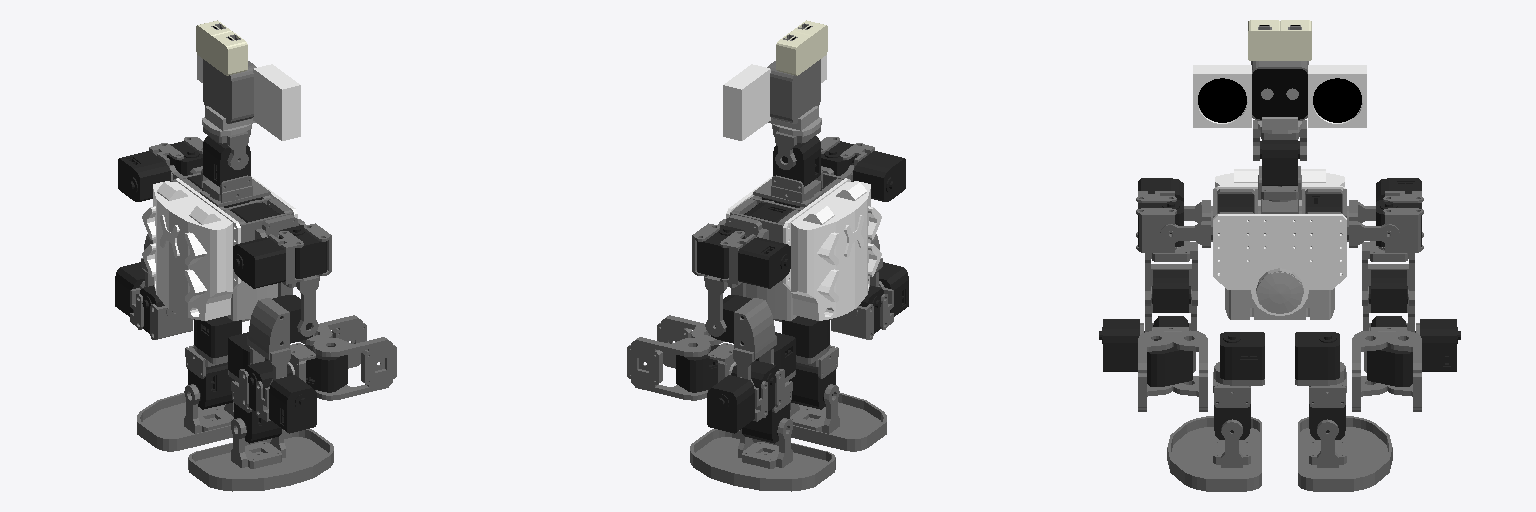
URDF robot description (kxrl2l2a6h2m):
<?xml version="1.0"?>
<robot name="kxrl2l2a6h2m"
       xmlns:xi="http://www.w3.org/2001/XInclude">
  <link name="bodyset94472077639384">
    <visual>
      <origin xyz="0 0 0.1205" rpy="0 -0 0"/>
      <geometry>
        <mesh filename="package://kxr_models/meshes/kxrl2l2a6h2m/bodyset94472077639384_mesh.dae" scale="1 1 1" />
      </geometry>
    </visual>
    <collision>
      <origin xyz="0 0 0.1205" rpy="0 -0 0"/>
      <geometry>
        <mesh filename="package://kxr_models/meshes/kxrl2l2a6h2m/bodyset94472077639384_mesh.dae" scale="1 1 1" />
      </geometry>
    </collision>
    <inertial>
      <mass value="0.437124" />
      <origin xyz="-0.005319 2.13443e-10 0.029207" rpy="0 -0 0"/>
      <inertia ixx="0.001306" ixy="-8.28224e-06" ixz="-1.69917e-06" iyy="0.001381" iyz="1.4569e-06" izz="0.002216"/>
    </inertial>
  </link>
  <link name="HEAD_LINK0">
    <visual>
      <origin xyz="-0.00725 0 0.084" rpy="0 -0 0"/>
      <geometry>
        <mesh filename="package://kxr_models/meshes/kxrl2l2a6h2m/HEAD_LINK0_mesh.dae" scale="1 1 1" />
      </geometry>
    </visual>
    <collision>
      <origin xyz="-0.00725 0 0.084" rpy="0 -0 0"/>
      <geometry>
        <mesh filename="package://kxr_models/meshes/kxrl2l2a6h2m/HEAD_LINK0_mesh.dae" scale="1 1 1" />
      </geometry>
    </collision>
    <inertial>
      <mass value="0.037398" />
      <origin xyz="0 1.22056e-18 0.023093" rpy="0 -0 0"/>
      <inertia ixx="6.28707e-05" ixy="3.12188e-21" ixz="8.61164e-09" iyy="6.69539e-05" iyz="-5.25778e-09" izz="2.5436e-05"/>
    </inertial>
  </link>
  <link name="HEAD_LINK1">
    <visual>
      <origin xyz="0 0 0.036" rpy="0 -0 0"/>
      <geometry>
        <mesh filename="package://kxr_models/meshes/kxrl2l2a6h2m/HEAD_LINK1_mesh.dae" scale="1 1 1" />
      </geometry>
    </visual>
    <collision>
      <origin xyz="0 0 0.036" rpy="0 -0 0"/>
      <geometry>
        <mesh filename="package://kxr_models/meshes/kxrl2l2a6h2m/HEAD_LINK1_mesh.dae" scale="1 1 1" />
      </geometry>
    </collision>
    <inertial>
      <mass value="0.160516" />
      <origin xyz="0.001469 -6.19726e-19 0.171559" rpy="0 -0 0"/>
      <inertia ixx="0.00092" ixy="-1.79922e-07" ixz="-6.65543e-08" iyy="0.000849" iyz="-1.79583e-08" izz="0.000187"/>
    </inertial>
  </link>
  <link name="LARM_LINK0">
    <visual>
      <origin xyz="0.00725 0.0465 0.069" rpy="0 -0 0"/>
      <geometry>
        <mesh filename="package://kxr_models/meshes/kxrl2l2a6h2m/LARM_LINK0_mesh.dae" scale="1 1 1" />
      </geometry>
    </visual>
    <collision>
      <origin xyz="0.00725 0.0465 0.069" rpy="0 -0 0"/>
      <geometry>
        <mesh filename="package://kxr_models/meshes/kxrl2l2a6h2m/LARM_LINK0_mesh.dae" scale="1 1 1" />
      </geometry>
    </collision>
    <inertial>
      <mass value="0.011619" />
      <origin xyz="1.73472e-18 0 0.012925" rpy="0 -0 0"/>
      <inertia ixx="3.94725e-05" ixy="-2.05366e-09" ixz="1.93423e-09" iyy="2.58467e-05" iyz="2.68346e-09" izz="1.89272e-05"/>
    </inertial>
  </link>
  <link name="LARM_LINK1">
    <visual>
      <origin xyz="0 0.031 0" rpy="0 -0 0"/>
      <geometry>
        <mesh filename="package://kxr_models/meshes/kxrl2l2a6h2m/LARM_LINK1_mesh.dae" scale="1 1 1" />
      </geometry>
    </visual>
    <collision>
      <origin xyz="0 0.031 0" rpy="0 -0 0"/>
      <geometry>
        <mesh filename="package://kxr_models/meshes/kxrl2l2a6h2m/LARM_LINK1_mesh.dae" scale="1 1 1" />
      </geometry>
    </collision>
    <inertial>
      <mass value="0.078374" />
      <origin xyz="-0.013148 0.008556 1.38778e-17" rpy="0 -0 0"/>
      <inertia ixx="8.84213e-05" ixy="-6.06237e-08" ixz="1.1156e-07" iyy="6.51421e-05" iyz="1.21718e-07" izz="8.07487e-05"/>
    </inertial>
  </link>
  <link name="LARM_LINK2">
    <visual>
      <origin xyz="0 0 -0.015" rpy="0 -0 0"/>
      <geometry>
        <mesh filename="package://kxr_models/meshes/kxrl2l2a6h2m/LARM_LINK2_mesh.dae" scale="1 1 1" />
      </geometry>
    </visual>
    <collision>
      <origin xyz="0 0 -0.015" rpy="0 -0 0"/>
      <geometry>
        <mesh filename="package://kxr_models/meshes/kxrl2l2a6h2m/LARM_LINK2_mesh.dae" scale="1 1 1" />
      </geometry>
    </collision>
    <inertial>
      <mass value="0.012939" />
      <origin xyz="0 0 0.016427" rpy="0 -0 0"/>
      <inertia ixx="4.20135e-05" ixy="-3.18804e-09" ixz="3.84132e-09" iyy="1.71658e-05" iyz="-4.7056e-09" izz="2.91052e-05"/>
    </inertial>
  </link>
  <link name="LARM_LINK3">
    <visual>
      <origin xyz="0 0 -0.041" rpy="0 -0 0"/>
      <geometry>
        <mesh filename="package://kxr_models/meshes/kxrl2l2a6h2m/LARM_LINK3_mesh.dae" scale="1 1 1" />
      </geometry>
    </visual>
    <collision>
      <origin xyz="0 0 -0.041" rpy="0 -0 0"/>
      <geometry>
        <mesh filename="package://kxr_models/meshes/kxrl2l2a6h2m/LARM_LINK3_mesh.dae" scale="1 1 1" />
      </geometry>
    </collision>
    <inertial>
      <mass value="0.05298" />
      <origin xyz="0.014792 0 -0.005477" rpy="0 -0 0"/>
      <inertia ixx="6.26397e-05" ixy="5.66051e-08" ixz="1.81381e-08" iyy="2.76781e-05" iyz="-6.74218e-07" izz="6.53223e-05"/>
    </inertial>
  </link>
  <link name="LARM_LINK4">
    <visual>
      <origin xyz="-0.0235 0 -0.043" rpy="0 -0 0"/>
      <geometry>
        <mesh filename="package://kxr_models/meshes/kxrl2l2a6h2m/LARM_LINK4_mesh.dae" scale="1 1 1" />
      </geometry>
    </visual>
    <collision>
      <origin xyz="-0.0235 0 -0.043" rpy="0 -0 0"/>
      <geometry>
        <mesh filename="package://kxr_models/meshes/kxrl2l2a6h2m/LARM_LINK4_mesh.dae" scale="1 1 1" />
      </geometry>
    </collision>
    <inertial>
      <mass value="0.078374" />
      <origin xyz="0 0.013148 -0.008556" rpy="0 -0 0"/>
      <inertia ixx="7.68304e-05" ixy="-6.06237e-08" ixz="1.1156e-07" iyy="5.20635e-05" iyz="1.21718e-07" izz="8.18295e-05"/>
    </inertial>
  </link>
  <link name="LARM_LINK5">
    <visual>
      <origin xyz="0.015 0 0" rpy="0 -0 0"/>
      <geometry>
        <mesh filename="package://kxr_models/meshes/kxrl2l2a6h2m/LARM_LINK5_mesh.dae" scale="1 1 1" />
      </geometry>
    </visual>
    <collision>
      <origin xyz="0.015 0 0" rpy="0 -0 0"/>
      <geometry>
        <mesh filename="package://kxr_models/meshes/kxrl2l2a6h2m/LARM_LINK5_mesh.dae" scale="1 1 1" />
      </geometry>
    </collision>
    <inertial>
      <mass value="0.042589" />
      <origin xyz="0.019552 0.079931 -0.03" rpy="0 -0 0"/>
      <inertia ixx="6.06965e-05" ixy="-5.22786e-23" ixz="8.61164e-09" iyy="2.91624e-05" iyz="-5.25778e-09" izz="6.59873e-05"/>
    </inertial>
  </link>
  <link name="LARM_LINK6">
    <visual>
      <origin xyz="0.0315 0.0105 0" rpy="0 -0 0"/>
      <geometry>
        <mesh filename="package://kxr_models/meshes/kxrl2l2a6h2m/LARM_LINK6_mesh.dae" scale="1 1 1" />
      </geometry>
    </visual>
    <collision>
      <origin xyz="0.0315 0.0105 0" rpy="0 -0 0"/>
      <geometry>
        <mesh filename="package://kxr_models/meshes/kxrl2l2a6h2m/LARM_LINK6_mesh.dae" scale="1 1 1" />
      </geometry>
    </collision>
    <inertial>
      <mass value="0.013267" />
      <origin xyz="0.048523 0.016764 3.46945e-18" rpy="0 -0 0"/>
      <inertia ixx="5.60417e-05" ixy="-2.54028e-09" ixz="-2.35822e-09" iyy="2.2066e-05" iyz="-1.52851e-07" izz="6.47415e-05"/>
    </inertial>
  </link>
  <link name="LARM_LINK7">
    <visual>
      <origin xyz="0.0315 -0.012979 0" rpy="0 -0 0"/>
      <geometry>
        <mesh filename="package://kxr_models/meshes/kxrl2l2a6h2m/LARM_LINK7_mesh.dae" scale="1 1 1" />
      </geometry>
    </visual>
    <collision>
      <origin xyz="0.0315 -0.012979 0" rpy="0 -0 0"/>
      <geometry>
        <mesh filename="package://kxr_models/meshes/kxrl2l2a6h2m/LARM_LINK7_mesh.dae" scale="1 1 1" />
      </geometry>
    </collision>
    <inertial>
      <mass value="0.013267" />
      <origin xyz="0.048523 -0.019242 2.42861e-17" rpy="0 -0 0"/>
      <inertia ixx="2.83996e-05" ixy="-2.54028e-09" ixz="-2.35822e-09" iyy="2.2066e-05" iyz="-1.52851e-07" izz="3.70994e-05"/>
    </inertial>
  </link>
  <link name="LLEG_LINK0">
    <visual>
      <origin xyz="0 0.034 -0.0565" rpy="0 -0 0"/>
      <geometry>
        <mesh filename="package://kxr_models/meshes/kxrl2l2a6h2m/LLEG_LINK0_mesh.dae" scale="1 1 1" />
      </geometry>
    </visual>
    <collision>
      <origin xyz="0 0.034 -0.0565" rpy="0 -0 0"/>
      <geometry>
        <mesh filename="package://kxr_models/meshes/kxrl2l2a6h2m/LLEG_LINK0_mesh.dae" scale="1 1 1" />
      </geometry>
    </collision>
    <inertial>
      <mass value="0.036864" />
      <origin xyz="1.41734e-18 0 0.017401" rpy="0 -0 0"/>
      <inertia ixx="3.95184e-05" ixy="9.57875e-22" ixz="8.61164e-09" iyy="3.94439e-05" iyz="-5.25778e-09" izz="2.97098e-05"/>
    </inertial>
  </link>
  <link name="LLEG_LINK1">
    <visual>
      <origin xyz="0 0 -0.033" rpy="0 -0 0"/>
      <geometry>
        <mesh filename="package://kxr_models/meshes/kxrl2l2a6h2m/LLEG_LINK1_mesh.dae" scale="1 1 1" />
      </geometry>
    </visual>
    <collision>
      <origin xyz="0 0 -0.033" rpy="0 -0 0"/>
      <geometry>
        <mesh filename="package://kxr_models/meshes/kxrl2l2a6h2m/LLEG_LINK1_mesh.dae" scale="1 1 1" />
      </geometry>
    </collision>
    <inertial>
      <mass value="0.038432" />
      <origin xyz="-1.84881e-19 0.007514 -0.025416" rpy="0 -0 0"/>
      <inertia ixx="0.000267" ixy="3.74795e-08" ixz="-1.78739e-07" iyy="0.000114" iyz="-5.24227e-07" izz="0.000159"/>
    </inertial>
  </link>
  <link name="RARM_LINK0">
    <visual>
      <origin xyz="0.00725 -0.0465 0.069" rpy="0 -0 0"/>
      <geometry>
        <mesh filename="package://kxr_models/meshes/kxrl2l2a6h2m/RARM_LINK0_mesh.dae" scale="1 1 1" />
      </geometry>
    </visual>
    <collision>
      <origin xyz="0.00725 -0.0465 0.069" rpy="0 -0 0"/>
      <geometry>
        <mesh filename="package://kxr_models/meshes/kxrl2l2a6h2m/RARM_LINK0_mesh.dae" scale="1 1 1" />
      </geometry>
    </collision>
    <inertial>
      <mass value="0.011619" />
      <origin xyz="1.73472e-18 0 0.012925" rpy="0 -0 0"/>
      <inertia ixx="3.94725e-05" ixy="-2.05366e-09" ixz="1.93423e-09" iyy="2.58467e-05" iyz="2.68346e-09" izz="1.89272e-05"/>
    </inertial>
  </link>
  <link name="RARM_LINK1">
    <visual>
      <origin xyz="0 -0.031 0" rpy="0 -0 0"/>
      <geometry>
        <mesh filename="package://kxr_models/meshes/kxrl2l2a6h2m/RARM_LINK1_mesh.dae" scale="1 1 1" />
      </geometry>
    </visual>
    <collision>
      <origin xyz="0 -0.031 0" rpy="0 -0 0"/>
      <geometry>
        <mesh filename="package://kxr_models/meshes/kxrl2l2a6h2m/RARM_LINK1_mesh.dae" scale="1 1 1" />
      </geometry>
    </collision>
    <inertial>
      <mass value="0.078374" />
      <origin xyz="-0.013148 -0.008556 1.38778e-17" rpy="0 -0 0"/>
      <inertia ixx="8.84213e-05" ixy="-6.06237e-08" ixz="1.1156e-07" iyy="6.51421e-05" iyz="1.21718e-07" izz="8.07487e-05"/>
    </inertial>
  </link>
  <link name="RARM_LINK2">
    <visual>
      <origin xyz="0 0 -0.015" rpy="0 -0 0"/>
      <geometry>
        <mesh filename="package://kxr_models/meshes/kxrl2l2a6h2m/RARM_LINK2_mesh.dae" scale="1 1 1" />
      </geometry>
    </visual>
    <collision>
      <origin xyz="0 0 -0.015" rpy="0 -0 0"/>
      <geometry>
        <mesh filename="package://kxr_models/meshes/kxrl2l2a6h2m/RARM_LINK2_mesh.dae" scale="1 1 1" />
      </geometry>
    </collision>
    <inertial>
      <mass value="0.012939" />
      <origin xyz="0 0 0.016427" rpy="0 -0 0"/>
      <inertia ixx="4.20135e-05" ixy="-3.18804e-09" ixz="3.84132e-09" iyy="1.71658e-05" iyz="-4.7056e-09" izz="2.91052e-05"/>
    </inertial>
  </link>
  <link name="RARM_LINK3">
    <visual>
      <origin xyz="0 0 -0.041" rpy="0 -0 0"/>
      <geometry>
        <mesh filename="package://kxr_models/meshes/kxrl2l2a6h2m/RARM_LINK3_mesh.dae" scale="1 1 1" />
      </geometry>
    </visual>
    <collision>
      <origin xyz="0 0 -0.041" rpy="0 -0 0"/>
      <geometry>
        <mesh filename="package://kxr_models/meshes/kxrl2l2a6h2m/RARM_LINK3_mesh.dae" scale="1 1 1" />
      </geometry>
    </collision>
    <inertial>
      <mass value="0.05298" />
      <origin xyz="0.014792 0 -0.005477" rpy="0 -0 0"/>
      <inertia ixx="6.26397e-05" ixy="5.66051e-08" ixz="1.81381e-08" iyy="2.76781e-05" iyz="-6.74218e-07" izz="6.53223e-05"/>
    </inertial>
  </link>
  <link name="RARM_LINK4">
    <visual>
      <origin xyz="-0.0235 0 -0.043" rpy="0 -0 0"/>
      <geometry>
        <mesh filename="package://kxr_models/meshes/kxrl2l2a6h2m/RARM_LINK4_mesh.dae" scale="1 1 1" />
      </geometry>
    </visual>
    <collision>
      <origin xyz="-0.0235 0 -0.043" rpy="0 -0 0"/>
      <geometry>
        <mesh filename="package://kxr_models/meshes/kxrl2l2a6h2m/RARM_LINK4_mesh.dae" scale="1 1 1" />
      </geometry>
    </collision>
    <inertial>
      <mass value="0.078374" />
      <origin xyz="0 -0.013148 -0.008556" rpy="0 -0 0"/>
      <inertia ixx="7.68304e-05" ixy="-6.06237e-08" ixz="1.1156e-07" iyy="5.20635e-05" iyz="1.21718e-07" izz="8.18295e-05"/>
    </inertial>
  </link>
  <link name="RARM_LINK5">
    <visual>
      <origin xyz="0.015 0 0" rpy="0 -0 0"/>
      <geometry>
        <mesh filename="package://kxr_models/meshes/kxrl2l2a6h2m/RARM_LINK5_mesh.dae" scale="1 1 1" />
      </geometry>
    </visual>
    <collision>
      <origin xyz="0.015 0 0" rpy="0 -0 0"/>
      <geometry>
        <mesh filename="package://kxr_models/meshes/kxrl2l2a6h2m/RARM_LINK5_mesh.dae" scale="1 1 1" />
      </geometry>
    </collision>
    <inertial>
      <mass value="0.042589" />
      <origin xyz="0.019552 -0.079931 -0.03" rpy="0 -0 0"/>
      <inertia ixx="6.06965e-05" ixy="-5.22786e-23" ixz="8.61164e-09" iyy="2.91624e-05" iyz="-5.25778e-09" izz="6.59873e-05"/>
    </inertial>
  </link>
  <link name="RARM_LINK6">
    <visual>
      <origin xyz="0.0315 -0.0105 0" rpy="0 -0 0"/>
      <geometry>
        <mesh filename="package://kxr_models/meshes/kxrl2l2a6h2m/RARM_LINK6_mesh.dae" scale="1 1 1" />
      </geometry>
    </visual>
    <collision>
      <origin xyz="0.0315 -0.0105 0" rpy="0 -0 0"/>
      <geometry>
        <mesh filename="package://kxr_models/meshes/kxrl2l2a6h2m/RARM_LINK6_mesh.dae" scale="1 1 1" />
      </geometry>
    </collision>
    <inertial>
      <mass value="0.013267" />
      <origin xyz="0.048523 -0.016764 2.08167e-17" rpy="0 -0 0"/>
      <inertia ixx="5.60417e-05" ixy="-2.54028e-09" ixz="-2.35822e-09" iyy="2.2066e-05" iyz="-1.52851e-07" izz="6.47415e-05"/>
    </inertial>
  </link>
  <link name="RARM_LINK7">
    <visual>
      <origin xyz="0.0315 0.012979 0" rpy="0 -0 0"/>
      <geometry>
        <mesh filename="package://kxr_models/meshes/kxrl2l2a6h2m/RARM_LINK7_mesh.dae" scale="1 1 1" />
      </geometry>
    </visual>
    <collision>
      <origin xyz="0.0315 0.012979 0" rpy="0 -0 0"/>
      <geometry>
        <mesh filename="package://kxr_models/meshes/kxrl2l2a6h2m/RARM_LINK7_mesh.dae" scale="1 1 1" />
      </geometry>
    </collision>
    <inertial>
      <mass value="0.013267" />
      <origin xyz="0.048523 0.019242 3.1225e-17" rpy="0 -0 0"/>
      <inertia ixx="2.83996e-05" ixy="-2.54028e-09" ixz="-2.35822e-09" iyy="2.2066e-05" iyz="-1.52851e-07" izz="3.70994e-05"/>
    </inertial>
  </link>
  <link name="RLEG_LINK0">
    <visual>
      <origin xyz="0 -0.034 -0.0565" rpy="0 -0 0"/>
      <geometry>
        <mesh filename="package://kxr_models/meshes/kxrl2l2a6h2m/RLEG_LINK0_mesh.dae" scale="1 1 1" />
      </geometry>
    </visual>
    <collision>
      <origin xyz="0 -0.034 -0.0565" rpy="0 -0 0"/>
      <geometry>
        <mesh filename="package://kxr_models/meshes/kxrl2l2a6h2m/RLEG_LINK0_mesh.dae" scale="1 1 1" />
      </geometry>
    </collision>
    <inertial>
      <mass value="0.036864" />
      <origin xyz="1.41734e-18 0 0.017401" rpy="0 -0 0"/>
      <inertia ixx="3.95184e-05" ixy="9.57875e-22" ixz="8.61164e-09" iyy="3.94439e-05" iyz="-5.25778e-09" izz="2.97098e-05"/>
    </inertial>
  </link>
  <link name="RLEG_LINK1">
    <visual>
      <origin xyz="0 0 -0.033" rpy="0 -0 0"/>
      <geometry>
        <mesh filename="package://kxr_models/meshes/kxrl2l2a6h2m/RLEG_LINK1_mesh.dae" scale="1 1 1" />
      </geometry>
    </visual>
    <collision>
      <origin xyz="0 0 -0.033" rpy="0 -0 0"/>
      <geometry>
        <mesh filename="package://kxr_models/meshes/kxrl2l2a6h2m/RLEG_LINK1_mesh.dae" scale="1 1 1" />
      </geometry>
    </collision>
    <inertial>
      <mass value="0.038432" />
      <origin xyz="3.8825e-18 -0.007514 -0.025416" rpy="0 -0 0"/>
      <inertia ixx="0.000267" ixy="3.74795e-08" ixz="-1.78739e-07" iyy="0.000114" iyz="-5.24227e-07" izz="0.000159"/>
    </inertial>
  </link>
  <joint name="HEAD_JOINT0" type="revolute">
    <parent link="bodyset94472077639384"/>
    <child  link="HEAD_LINK0"/>
    <origin xyz="-0.00725 0 0.084" rpy="0 -0 0 "/>
    <axis   xyz="0 0 -1"/>
    <limit lower="-2.96706" upper="2.96706" effort="0.656248" velocity="7.47998" />
    <dynamics damping="0.2" friction="0" />
  </joint>
  <joint name="HEAD_JOINT1" type="revolute">
    <parent link="HEAD_LINK0"/>
    <child  link="HEAD_LINK1"/>
    <origin xyz="0 0 0.036" rpy="0 -0 0 "/>
    <axis   xyz="0 -1 0"/>
    <limit lower="-2.0944" upper="2.0944" effort="0.656248" velocity="7.47998" />
    <dynamics damping="0.2" friction="0" />
  </joint>
  <joint name="LARM_JOINT0" type="revolute">
    <parent link="bodyset94472077639384"/>
    <child  link="LARM_LINK0"/>
    <origin xyz="0.00725 0.0465 0.069" rpy="0 -0 0 "/>
    <axis   xyz="0 -1 0"/>
    <limit lower="-3.14159" upper="3.14159" effort="0.656248" velocity="7.47998" />
    <dynamics damping="0.2" friction="0" />
  </joint>
  <joint name="LARM_JOINT1" type="revolute">
    <parent link="LARM_LINK0"/>
    <child  link="LARM_LINK1"/>
    <origin xyz="0 0.031 0" rpy="0 -0 0 "/>
    <axis   xyz="1 0 0"/>
    <limit lower="-1.91986" upper="1.91986" effort="0.656248" velocity="7.47998" />
    <dynamics damping="0.2" friction="0" />
  </joint>
  <joint name="LARM_JOINT2" type="revolute">
    <parent link="LARM_LINK1"/>
    <child  link="LARM_LINK2"/>
    <origin xyz="0 0 -0.015" rpy="0 -0 0 "/>
    <axis   xyz="0 0 1"/>
    <limit lower="-2.35619" upper="2.35619" effort="0.656248" velocity="7.47998" />
    <dynamics damping="0.2" friction="0" />
  </joint>
  <joint name="LARM_JOINT3" type="revolute">
    <parent link="LARM_LINK2"/>
    <child  link="LARM_LINK3"/>
    <origin xyz="0 0 -0.041" rpy="0 -0 0 "/>
    <axis   xyz="0 1 0"/>
    <limit lower="-2.96706" upper="2.96706" effort="0.656248" velocity="7.47998" />
    <dynamics damping="0.2" friction="0" />
  </joint>
  <joint name="LARM_JOINT4" type="revolute">
    <parent link="LARM_LINK3"/>
    <child  link="LARM_LINK4"/>
    <origin xyz="-0.0235 0 -0.043" rpy="0 -0 0 "/>
    <axis   xyz="0 -1 0"/>
    <limit lower="-2.18166" upper="1.74533" effort="0.656248" velocity="7.47998" />
    <dynamics damping="0.2" friction="0" />
  </joint>
  <joint name="LARM_JOINT5" type="revolute">
    <parent link="LARM_LINK4"/>
    <child  link="LARM_LINK5"/>
    <origin xyz="0.015 0 0" rpy="0 -0 0 "/>
    <axis   xyz="-1 0 0"/>
    <limit lower="-2.35619" upper="2.35619" effort="0.656248" velocity="7.47998" />
    <dynamics damping="0.2" friction="0" />
  </joint>
  <joint name="LARM_JOINT6" type="revolute">
    <parent link="LARM_LINK5"/>
    <child  link="LARM_LINK6"/>
    <origin xyz="0.0315 0.0105 0" rpy="0 -0 0 "/>
    <axis   xyz="2.22045e-16 0 1"/>
    <limit lower="-1.74533" upper="1.74533" effort="0.656248" velocity="7.47998" />
    <dynamics damping="0.2" friction="0" />
  </joint>
  <joint name="LARM_JOINT7" type="revolute">
    <parent link="LARM_LINK5"/>
    <child  link="LARM_LINK7"/>
    <origin xyz="0.0315 -0.012979 0" rpy="0 -0 0 "/>
    <axis   xyz="0 0 -1"/>
    <!-- <mimic joint="LARM_JOINT6" multiplier="1" /> -->
    <limit lower="-1.74533" upper="1.74533" effort="0.656248" velocity="7.47998" />
    <dynamics damping="0.2" friction="0" />
  </joint>
  <joint name="LLEG_JOINT0" type="revolute">
    <parent link="bodyset94472077639384"/>
    <child  link="LLEG_LINK0"/>
    <origin xyz="0 0.034 -0.0565" rpy="0 -0 0 "/>
    <axis   xyz="0 0 1"/>
    <limit lower="-1.91986" upper="1.91986" effort="0.656248" velocity="7.47998" />
    <dynamics damping="0.2" friction="0" />
  </joint>
  <joint name="LLEG_JOINT1" type="revolute">
    <parent link="LLEG_LINK0"/>
    <child  link="LLEG_LINK1"/>
    <origin xyz="0 0 -0.033" rpy="0 -0 0 "/>
    <axis   xyz="-1 0 0"/>
    <limit lower="-1.91986" upper="1.91986" effort="0.656248" velocity="7.47998" />
    <dynamics damping="0.2" friction="0" />
  </joint>
  <joint name="RARM_JOINT0" type="revolute">
    <parent link="bodyset94472077639384"/>
    <child  link="RARM_LINK0"/>
    <origin xyz="0.00725 -0.0465 0.069" rpy="0 -0 0 "/>
    <axis   xyz="0 1 0"/>
    <limit lower="-3.14159" upper="3.14159" effort="0.656248" velocity="7.47998" />
    <dynamics damping="0.2" friction="0" />
  </joint>
  <joint name="RARM_JOINT1" type="revolute">
    <parent link="RARM_LINK0"/>
    <child  link="RARM_LINK1"/>
    <origin xyz="0 -0.031 0" rpy="0 -0 0 "/>
    <axis   xyz="1 0 0"/>
    <limit lower="-1.91986" upper="1.91986" effort="0.656248" velocity="7.47998" />
    <dynamics damping="0.2" friction="0" />
  </joint>
  <joint name="RARM_JOINT2" type="revolute">
    <parent link="RARM_LINK1"/>
    <child  link="RARM_LINK2"/>
    <origin xyz="0 0 -0.015" rpy="0 -0 0 "/>
    <axis   xyz="0 0 1"/>
    <limit lower="-2.35619" upper="2.35619" effort="0.656248" velocity="7.47998" />
    <dynamics damping="0.2" friction="0" />
  </joint>
  <joint name="RARM_JOINT3" type="revolute">
    <parent link="RARM_LINK2"/>
    <child  link="RARM_LINK3"/>
    <origin xyz="0 0 -0.041" rpy="0 -0 0 "/>
    <axis   xyz="0 1 0"/>
    <limit lower="-2.96706" upper="2.96706" effort="0.656248" velocity="7.47998" />
    <dynamics damping="0.2" friction="0" />
  </joint>
  <joint name="RARM_JOINT4" type="revolute">
    <parent link="RARM_LINK3"/>
    <child  link="RARM_LINK4"/>
    <origin xyz="-0.0235 0 -0.043" rpy="0 -0 0 "/>
    <axis   xyz="0 1 0"/>
    <limit lower="-2.18166" upper="1.74533" effort="0.656248" velocity="7.47998" />
    <dynamics damping="0.2" friction="0" />
  </joint>
  <joint name="RARM_JOINT5" type="revolute">
    <parent link="RARM_LINK4"/>
    <child  link="RARM_LINK5"/>
    <origin xyz="0.015 0 0" rpy="0 -0 0 "/>
    <axis   xyz="-1 0 0"/>
    <limit lower="-2.35619" upper="2.35619" effort="0.656248" velocity="7.47998" />
    <dynamics damping="0.2" friction="0" />
  </joint>
  <joint name="RARM_JOINT6" type="revolute">
    <parent link="RARM_LINK5"/>
    <child  link="RARM_LINK6"/>
    <origin xyz="0.0315 -0.0105 0" rpy="0 -0 0 "/>
    <axis   xyz="0 0 -1"/>
    <limit lower="-1.74533" upper="1.74533" effort="0.656248" velocity="7.47998" />
    <dynamics damping="0.2" friction="0" />
  </joint>
  <joint name="RARM_JOINT7" type="revolute">
    <parent link="RARM_LINK5"/>
    <child  link="RARM_LINK7"/>
    <origin xyz="0.0315 0.012979 0" rpy="0 -0 0 "/>
    <axis   xyz="4.44089e-16 0 1"/>
    <limit lower="-1.74533" upper="1.74533" effort="0.656248" velocity="7.47998" />
    <!-- <mimic joint="RARM_JOINT6" multiplier="-1" /> -->
    <dynamics damping="0.2" friction="0" />
  </joint>
  <joint name="RLEG_JOINT0" type="revolute">
    <parent link="bodyset94472077639384"/>
    <child  link="RLEG_LINK0"/>
    <origin xyz="0 -0.034 -0.0565" rpy="0 -0 0 "/>
    <axis   xyz="0 0 1"/>
    <limit lower="-1.91986" upper="1.91986" effort="0.656248" velocity="7.47998" />
    <dynamics damping="0.2" friction="0" />
  </joint>
  <joint name="RLEG_JOINT1" type="revolute">
    <parent link="RLEG_LINK0"/>
    <child  link="RLEG_LINK1"/>
    <origin xyz="0 0 -0.033" rpy="0 -0 0 "/>
    <axis   xyz="-1 0 0"/>
    <limit lower="-1.91986" upper="1.91986" effort="0.656248" velocity="7.47998" />
    <dynamics damping="0.2" friction="0" />
  </joint>
</robot>

--- Facts derived from the render (not from the file) ---
3 views of the same robot in one strip: view 1: azimuth 30°, elevation 25°; view 2: azimuth 150°, elevation 25°; view 3: azimuth 270°, elevation 25° (orthographic).
Model kxrl2l2a6h2m with 23 links and 22 joints (22 revolute), rooted at bodyset94472077639384, posed every joint at zero.
Links seen in each view (by area): view 1: bodyset94472077639384, HEAD_LINK1, RLEG_LINK1, RARM_LINK1, LLEG_LINK1, RARM_LINK4, RARM_LINK3, LARM_LINK1, LARM_LINK4, RARM_LINK6, HEAD_LINK0, RARM_LINK5 (+5 smaller); view 2: bodyset94472077639384, HEAD_LINK1, LLEG_LINK1, LARM_LINK1, RLEG_LINK1, LARM_LINK4, LARM_LINK3, RARM_LINK1, RARM_LINK4, LARM_LINK6, HEAD_LINK0, LARM_LINK5 (+5 smaller); view 3: bodyset94472077639384, HEAD_LINK1, LLEG_LINK1, RLEG_LINK1, LARM_LINK1, RARM_LINK1, HEAD_LINK0, LARM_LINK4, RARM_LINK4, LARM_LINK3, RARM_LINK3, RARM_LINK5 (+11 smaller).
Boxes of the visible links, x1,y1,x2,y2 form: bodyset94472077639384: [142, 173, 297, 382]; HEAD_LINK1: [196, 20, 300, 169]; RLEG_LINK1: [188, 418, 333, 491]; RARM_LINK1: [233, 223, 331, 288]; LLEG_LINK1: [137, 384, 233, 451]; RARM_LINK4: [239, 360, 316, 433]; RARM_LINK3: [247, 295, 312, 386]; LARM_LINK1: [118, 137, 203, 201]; LARM_LINK4: [115, 262, 192, 339]; RARM_LINK6: [313, 337, 396, 400]; HEAD_LINK0: [201, 136, 252, 202]; RARM_LINK5: [287, 343, 347, 392]; bodyset94472077639384: [726, 173, 881, 382]; HEAD_LINK1: [723, 20, 827, 169]; LLEG_LINK1: [690, 418, 835, 491]; LARM_LINK1: [692, 223, 790, 288]; RLEG_LINK1: [790, 384, 886, 451]; LARM_LINK4: [707, 360, 784, 433]; LARM_LINK3: [711, 295, 776, 386]; RARM_LINK1: [820, 137, 905, 201]; RARM_LINK4: [831, 262, 908, 339]; LARM_LINK6: [627, 337, 710, 400]; HEAD_LINK0: [771, 136, 822, 202]; LARM_LINK5: [676, 343, 736, 392]; bodyset94472077639384: [1211, 169, 1348, 385]; HEAD_LINK1: [1193, 20, 1366, 160]; LLEG_LINK1: [1298, 416, 1392, 491]; RLEG_LINK1: [1167, 416, 1261, 491]; LARM_LINK1: [1376, 178, 1423, 252]; RARM_LINK1: [1136, 178, 1183, 252]; HEAD_LINK0: [1258, 140, 1301, 199]; LARM_LINK4: [1361, 316, 1460, 372]; RARM_LINK4: [1099, 316, 1198, 372]; LARM_LINK3: [1363, 264, 1414, 331]; RARM_LINK3: [1145, 264, 1196, 331]; RARM_LINK5: [1147, 327, 1192, 386].
Size in the robot's own frame: 0.1353 by 0.258 by 0.3365 metres.
23 mesh visuals loaded from 23 distinct referenced files (23 Collada DAE).